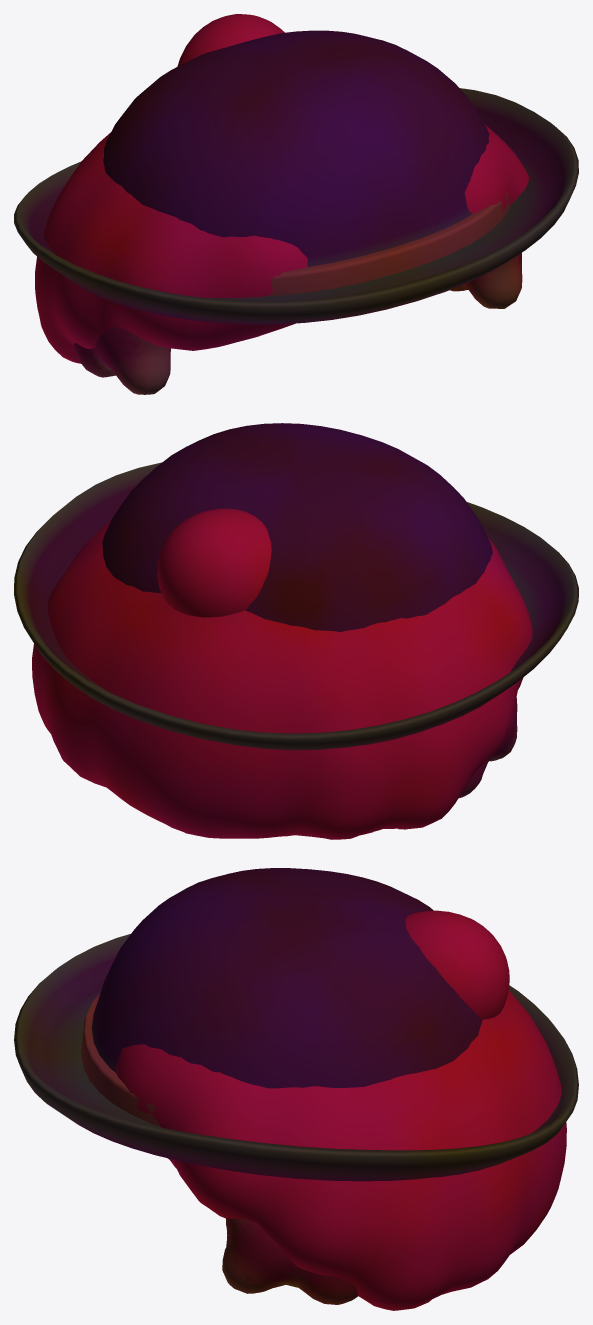
Rendered from BusinessTravelerLooks.glb.
3 views of the same model, one above another, from view 1: azimuth 30°, elevation 25°; view 2: azimuth 150°, elevation 25°; view 3: azimuth 270°, elevation 25° (orthographic). The views are drawn at different scales.
Parts seen in each view (by area): view 1: Look_Bowler_Hat, Look_Bun_Hair, Look_Bowler_Hair; view 2: Look_Bun_Hair, Look_Bowler_Hat, Look_Bowler_Hair; view 3: Look_Bowler_Hat, Look_Bun_Hair, Look_Bowler_Hair.
Boxes of the visible parts, x1,y1,x2,y2 form: Look_Bowler_Hat: (14,30,578,324); Look_Bun_Hair: (35,14,528,363); Look_Bowler_Hair: (73,253,522,394); Look_Bun_Hair: (32,508,532,839); Look_Bowler_Hat: (14,423,578,750); Look_Bowler_Hair: (459,697,517,797); Look_Bowler_Hat: (14,868,578,1181); Look_Bun_Hair: (116,910,566,1310); Look_Bowler_Hair: (222,1218,357,1304).
Size of the model in its own units: 0.7575 by 0.4624 by 0.7021.
